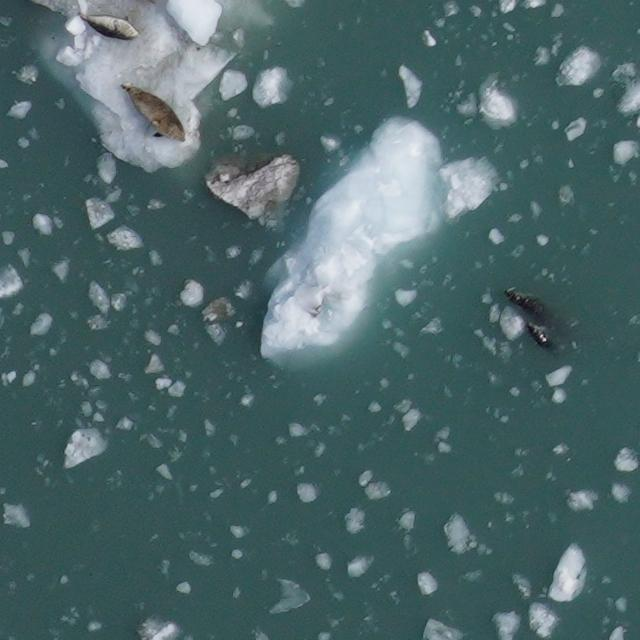seal: (115, 80, 191, 146), (73, 8, 143, 45)
